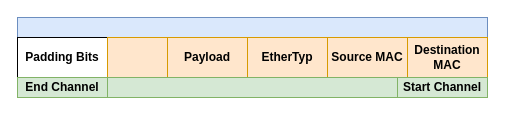
Some shapes in this 505 by 115 pixel diagram are drawn without their labels. The centre of each missing label's shape, as x and y in pixels:
Channel (Length: 128 byte): [252,27]
FEC: [137,57]
